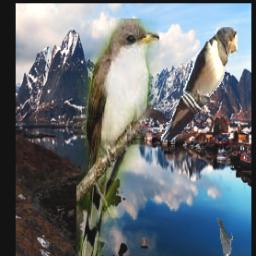Cuckoo: (76, 19, 159, 256)
Swallow: (161, 28, 239, 143)
Woodpecker: (216, 218, 233, 256)
